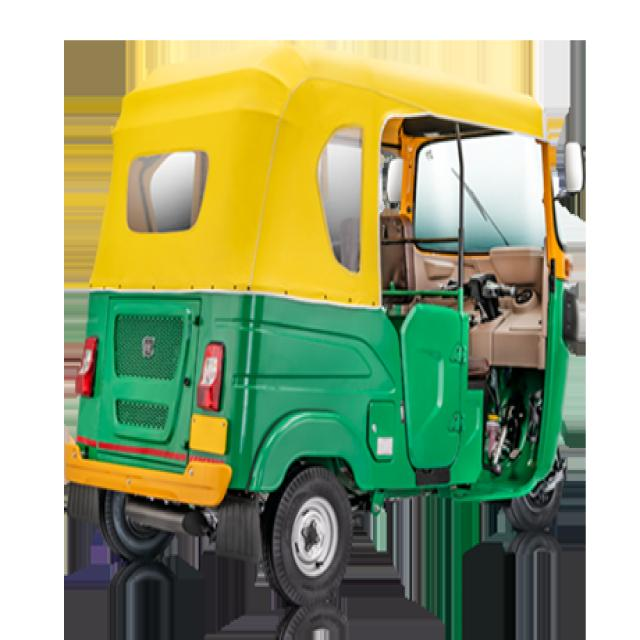autorickshaw: (65, 44, 578, 636)
